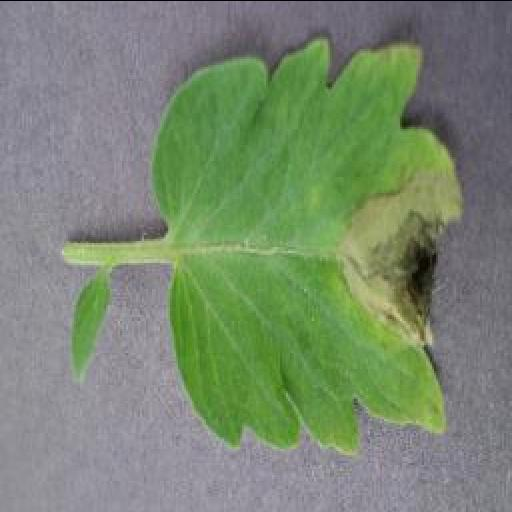disease_tomato: (148, 32, 468, 458)
